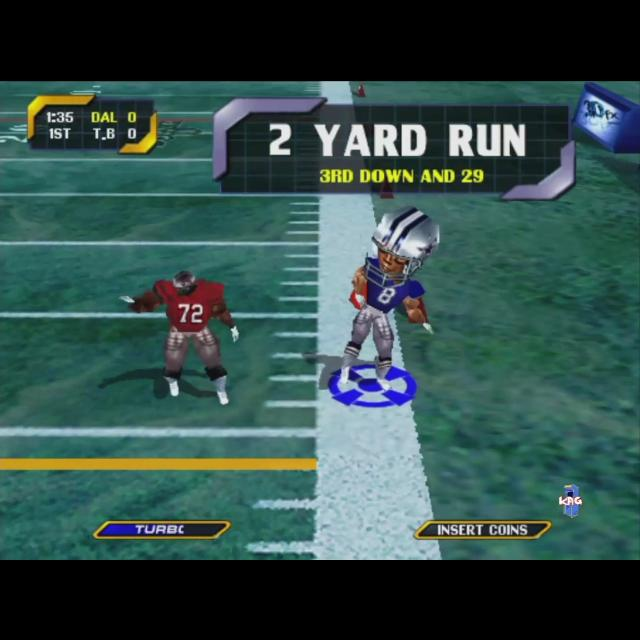player: (336, 206, 439, 392), (120, 270, 238, 404)
